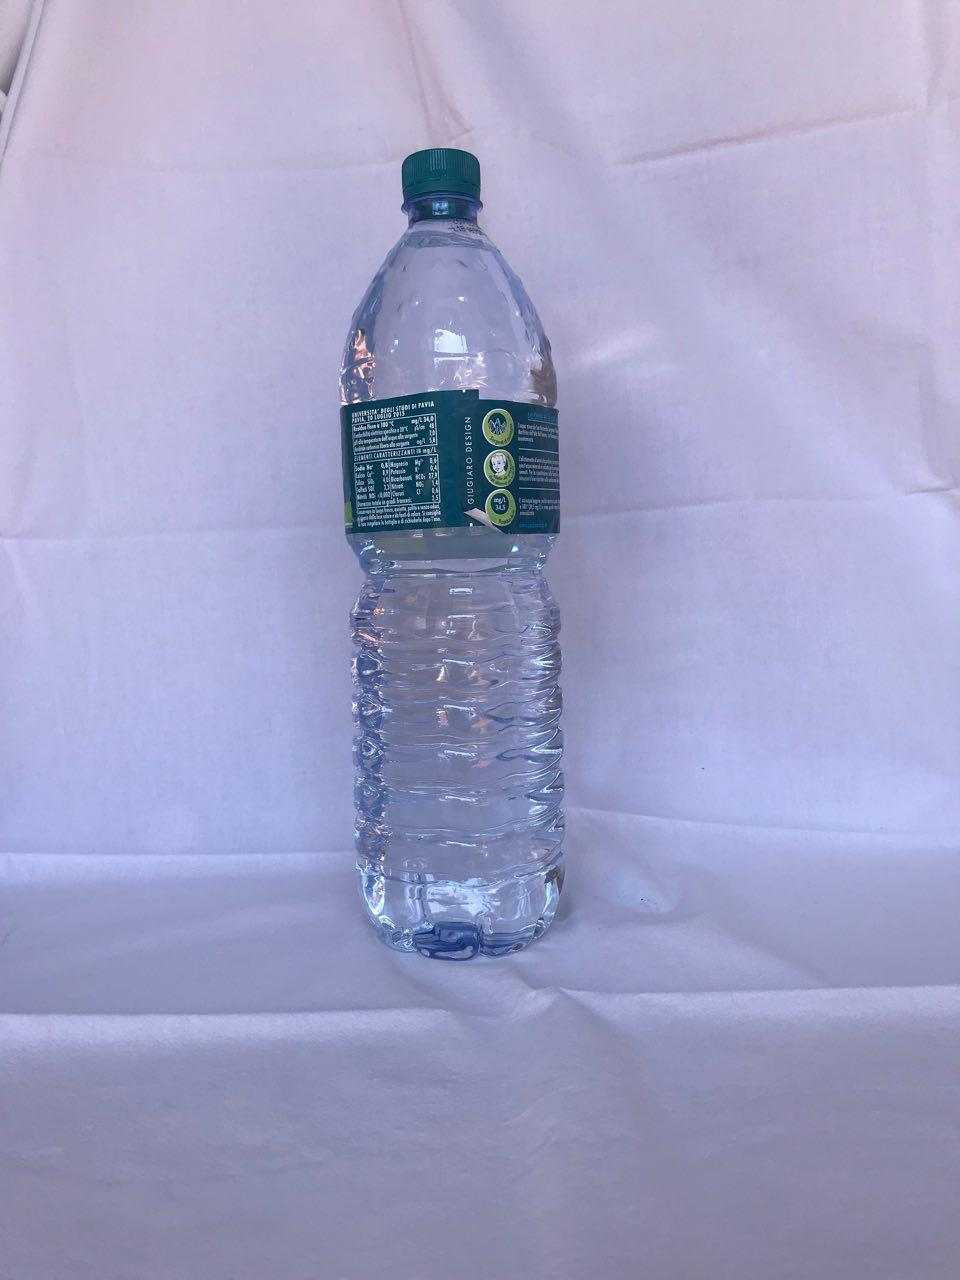san_bernardo: (336, 145, 570, 961)
